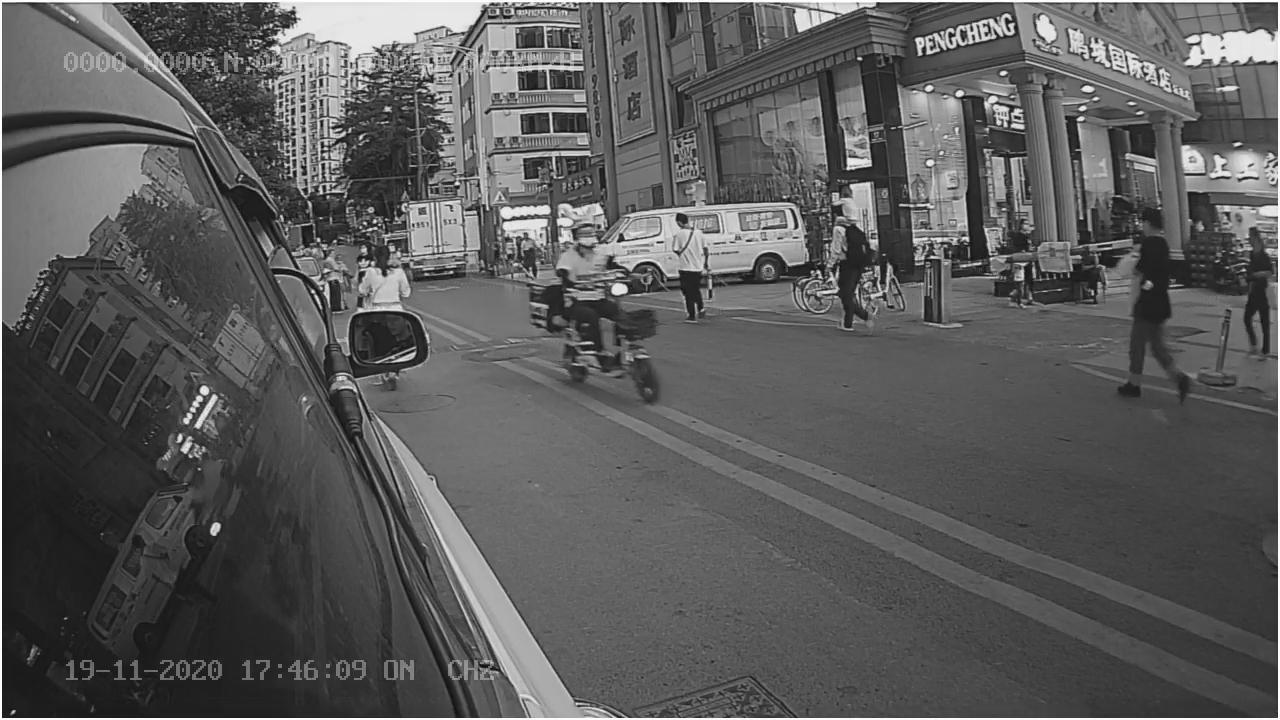person: (1106, 199, 1206, 424)
